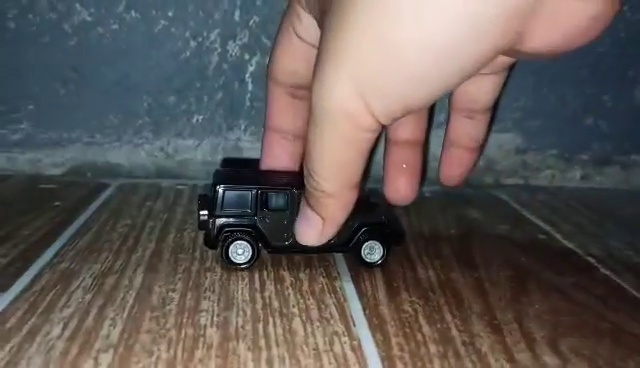car: (198, 161, 403, 283)
hand: (260, 1, 615, 261)
